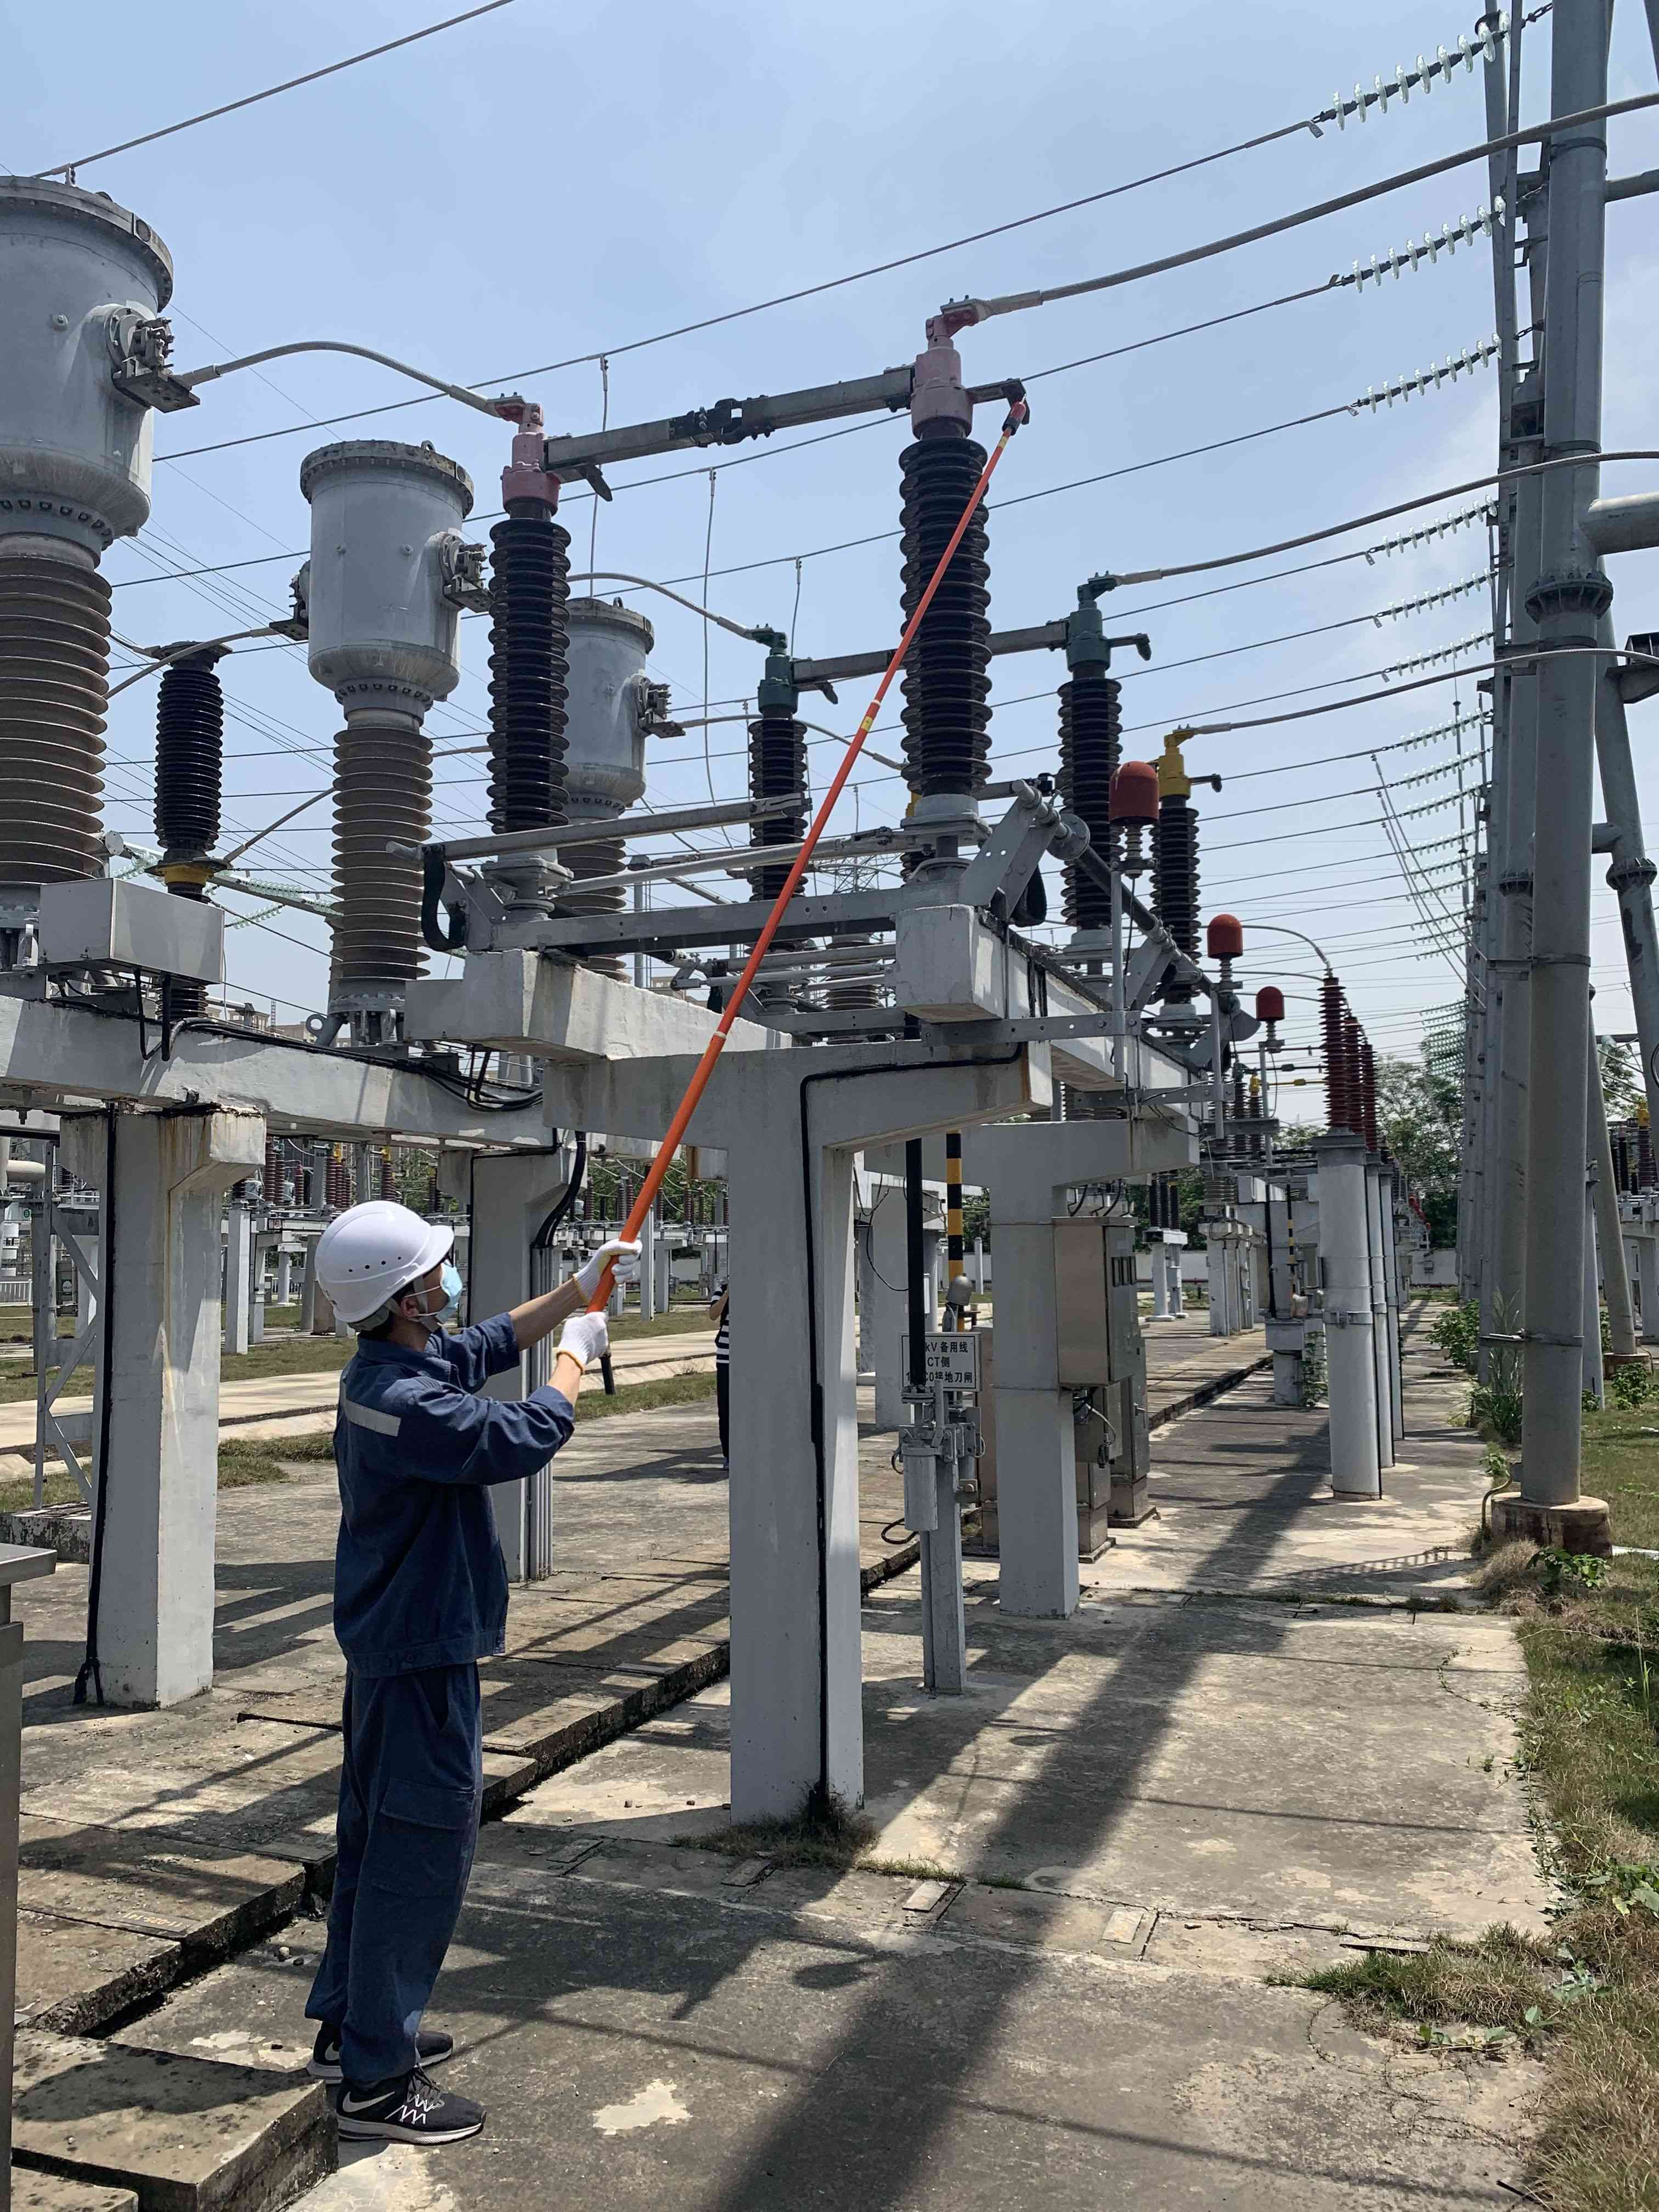downsuit: (303, 1684, 497, 2087)
upsuit: (317, 1327, 579, 1670)
wrongtop: (498, 1270, 592, 1409)
